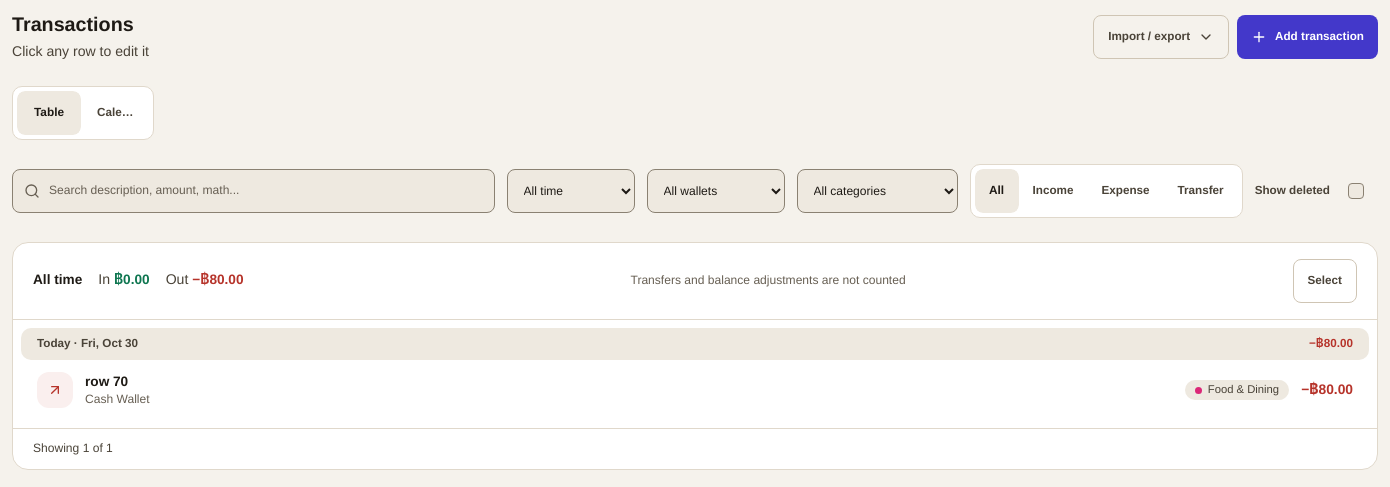
Test: an empty list says why it is empty (Phase 65, ADR 0041) › a filter that hides every row keeps the filtered copy
The width and height of the screenshot is (1390, 487).
Click the button with id "tx-filter-type-income": click(1053, 191) [1018,169,1087,213]
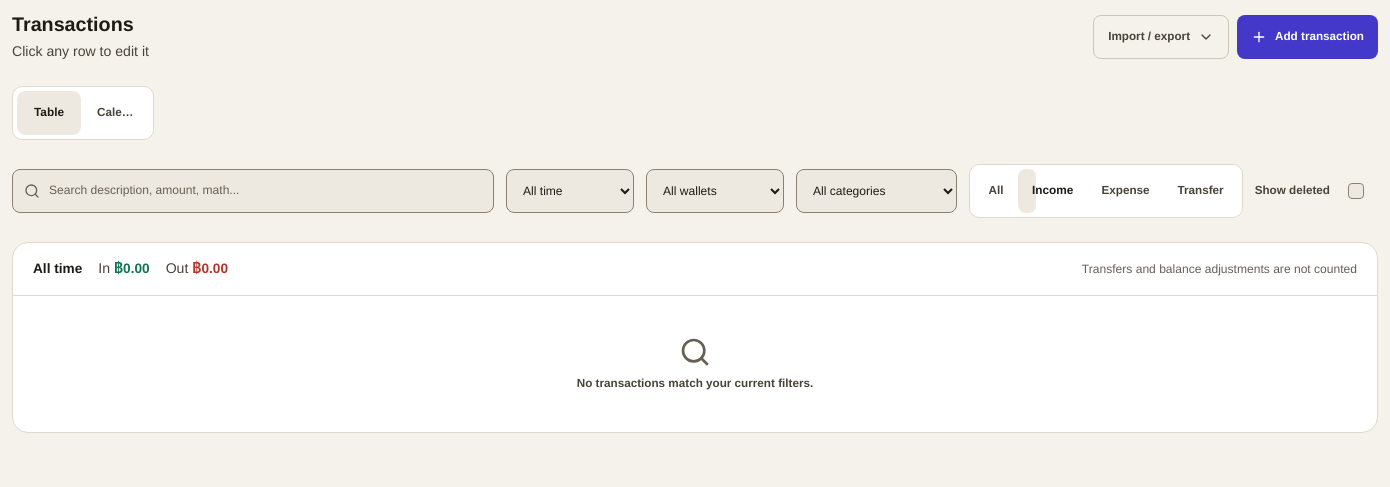
Now the text "No transactions match your current filters." is shown, box [577,376,813,392]
